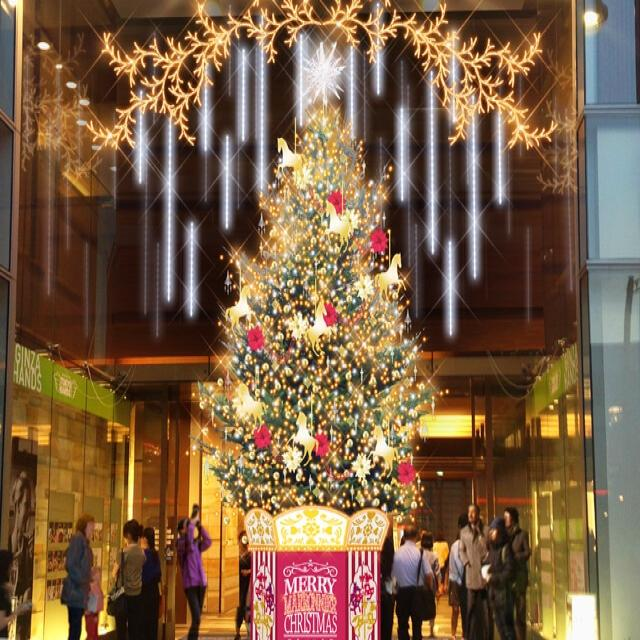body: (399, 512, 555, 638), (478, 514, 529, 639), (390, 521, 436, 640), (458, 503, 496, 640), (58, 511, 96, 639), (6, 469, 34, 639), (175, 515, 213, 640), (109, 518, 146, 640), (502, 504, 532, 640), (140, 524, 163, 640), (0, 546, 28, 638), (420, 530, 443, 638), (232, 528, 253, 640), (447, 526, 466, 638), (82, 565, 105, 640), (428, 534, 443, 596)
